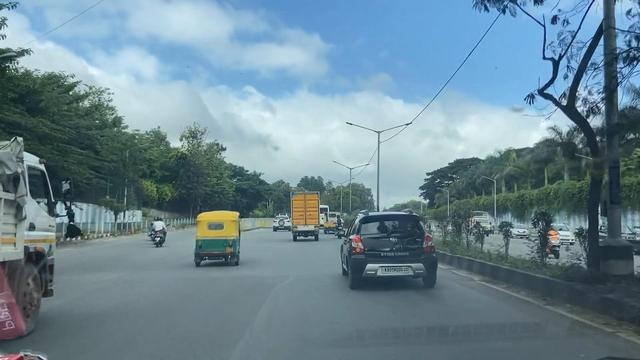HMV: (290, 192, 322, 241)
LMV: (341, 210, 439, 296), (195, 209, 241, 264)
